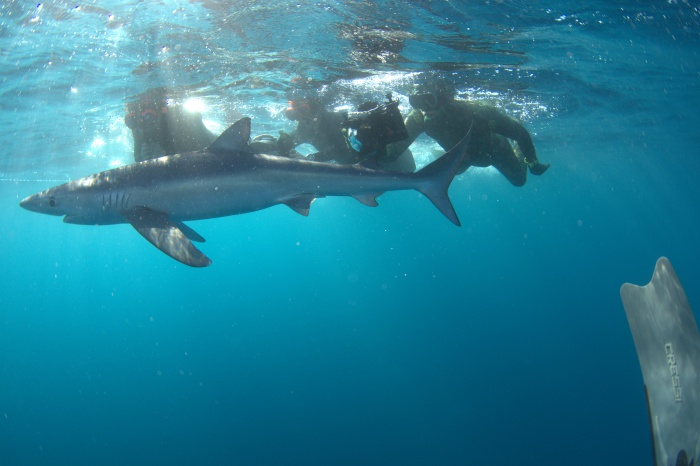Azul: (14, 103, 487, 278)
